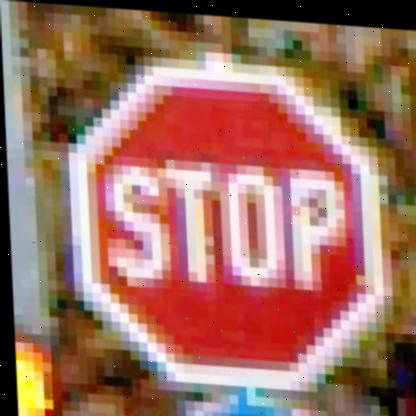Stop Sign: (65, 51, 388, 398)
